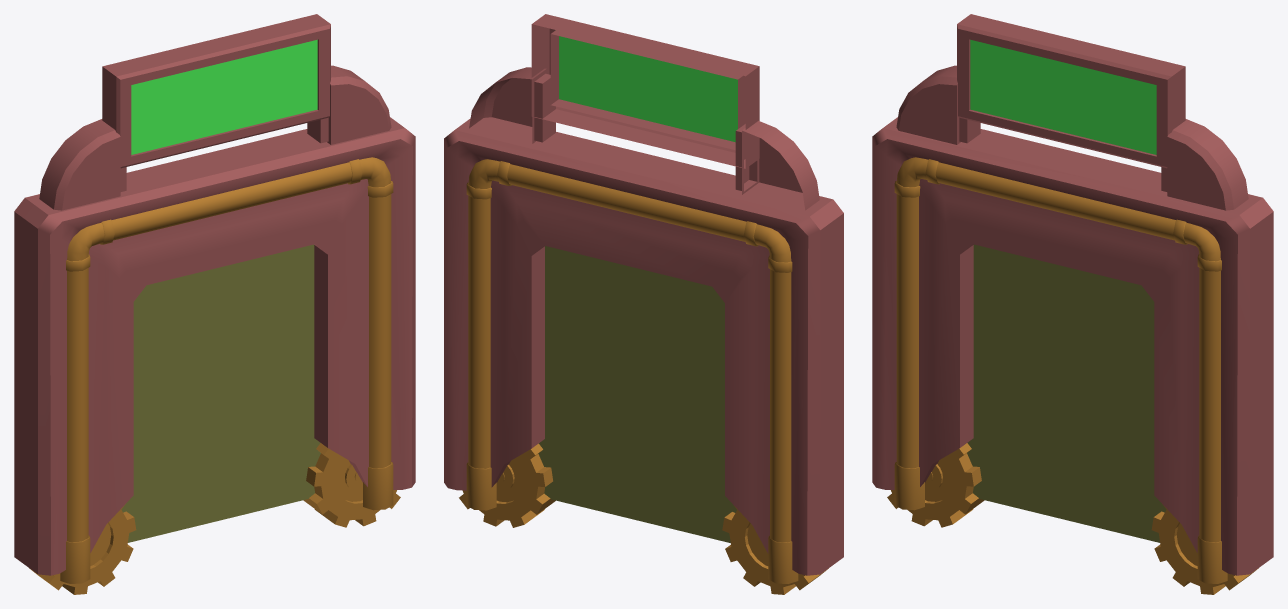
The model's file is Mesh_PlayerDoor.fbx.
3 views of the same model, side by side, from view 1: azimuth 30°, elevation 25°; view 2: azimuth 150°, elevation 25°; view 3: azimuth 330°, elevation 25° (orthographic).
Visible parts, largest first — view 1: DoorBody, Door_Plane, DoorPipes, DoorScreen, DoorScreenShell, DoorScreenStand, DoorGears, DoorPipeRings; view 2: DoorBody, Door_Plane, DoorPipes, DoorScreenShell, DoorScreen, DoorScreenStand, DoorGears, DoorPipeRings; view 3: DoorBody, Door_Plane, DoorPipes, DoorScreen, DoorScreenShell, DoorScreenStand, DoorGears, DoorPipeRings.
Boxes of the visible parts, box(x1,y1,x2,y2) form: DoorBody: box(14, 117, 415, 575); Door_Plane: box(121, 244, 320, 542); DoorPipes: box(67, 157, 391, 542); DoorScreen: box(131, 39, 317, 154); DoorScreenShell: box(102, 14, 330, 168); DoorScreenStand: box(39, 65, 391, 210); DoorGears: box(29, 443, 400, 594); DoorPipeRings: box(60, 159, 393, 583); DoorBody: box(444, 117, 843, 575); Door_Plane: box(538, 246, 736, 542); DoorPipes: box(468, 159, 791, 542); DoorScreenShell: box(531, 14, 759, 168); DoorScreen: box(559, 36, 737, 142); DoorScreenStand: box(469, 67, 819, 210); DoorGears: box(459, 443, 828, 594); DoorPipeRings: box(466, 161, 798, 583); DoorBody: box(872, 117, 1273, 575); Door_Plane: box(967, 244, 1166, 542); DoorPipes: box(896, 157, 1220, 542); DoorScreen: box(970, 39, 1156, 154); DoorScreenShell: box(957, 14, 1185, 168); DoorScreenStand: box(896, 65, 1248, 210); DoorGears: box(887, 443, 1258, 594); DoorPipeRings: box(894, 159, 1227, 583).
Size of the model in its own units: 425 by 547 by 74.46.
